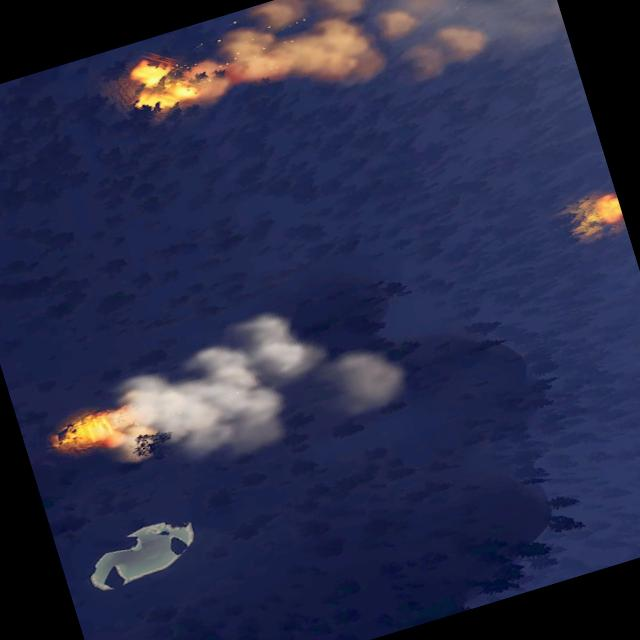fire: (48, 393, 152, 465), (123, 46, 208, 122), (570, 188, 624, 236)
smoke: (94, 282, 414, 490), (193, 0, 568, 140)
